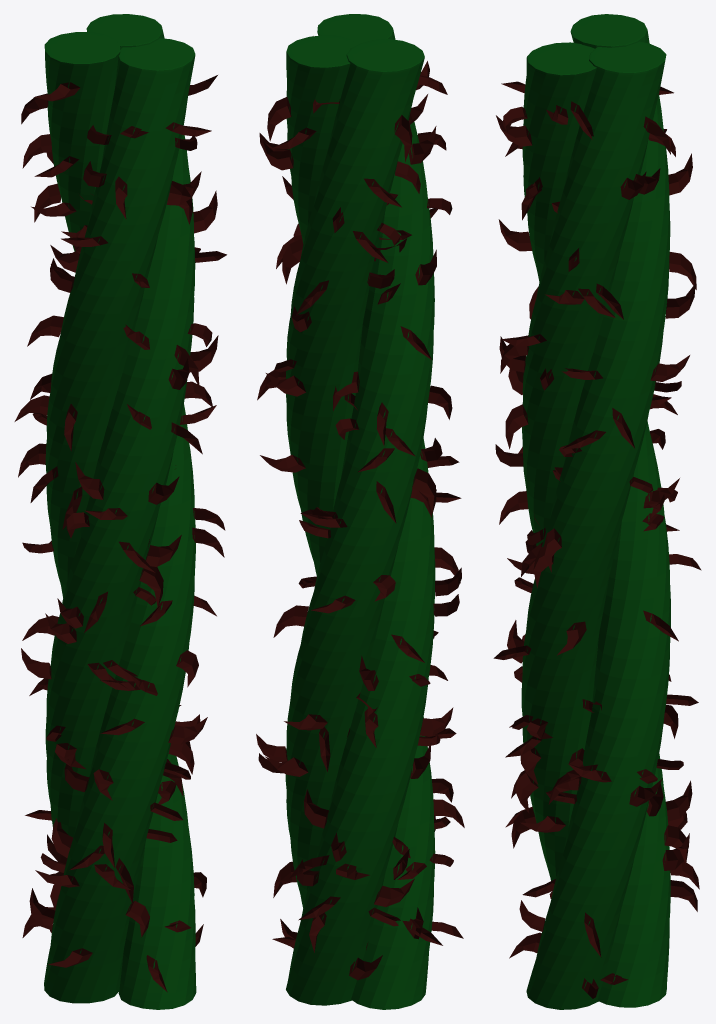
Rendered from loza-2-1-1.fbx.
3 renders of one model, left to right at view 1: azimuth 30°, elevation 25°; view 2: azimuth 150°, elevation 25°; view 3: azimuth 270°, elevation 25°, orthographic.
Visible parts, largest first — view 1: 2; view 2: 2; view 3: 2.
Part boxes in pixels (box(x1,y1,x2,y2)): 2: box(14, 14, 226, 1009); 2: box(256, 14, 464, 1009); 2: box(493, 14, 701, 1009).
Bounding box in the file's own units: 24.87 × 126 × 25.36.
